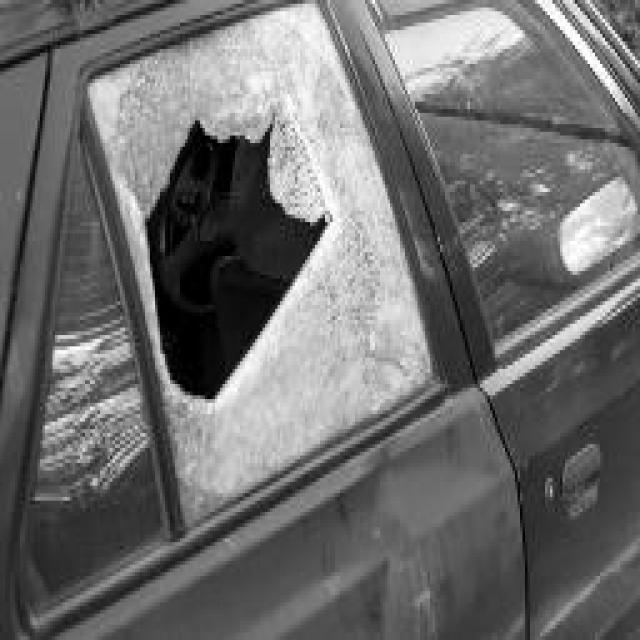Door: (40, 64, 455, 640)
